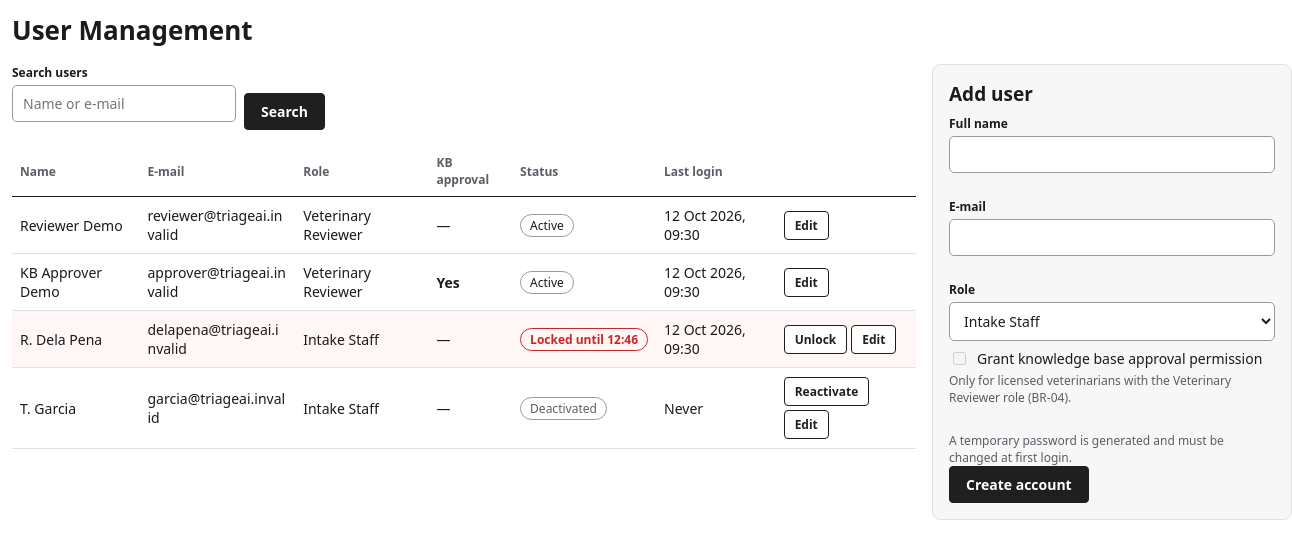
Test case: the add-user panel (BR-04) › enables the KB approval checkbox for a Veterinary Reviewer only and clears it otherwise
Expected: the text "Reviewer Demo" is shown, left=12, top=196, right=140, bottom=254
Expected: the checkbox labelled "Grant knowledge base approval permission" is disabled, left=953, top=352, right=966, bottom=365
Step 1. Select "Veterinary Reviewer" in the dropdown labelled "Role" → point(1112, 322), box left=949, top=302, right=1275, bottom=341
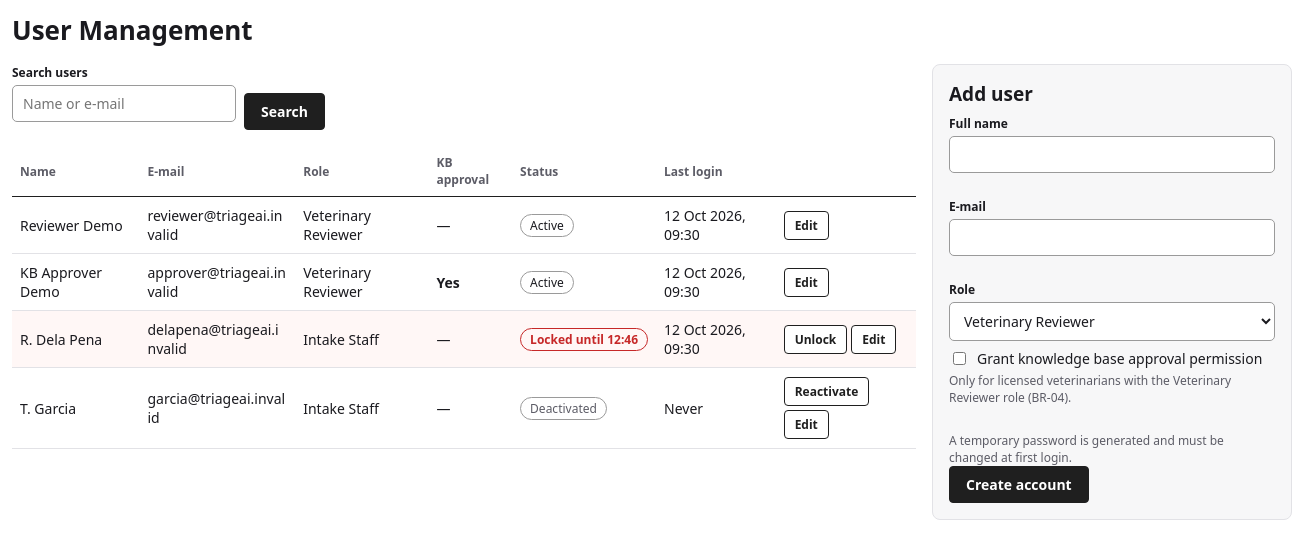
Expected: the checkbox labelled "Grant knowledge base approval permission" is enabled
Step 2. Click the checkbox labelled "Grant knowledge base approval permission" → point(960, 359), box left=953, top=352, right=966, bottom=365
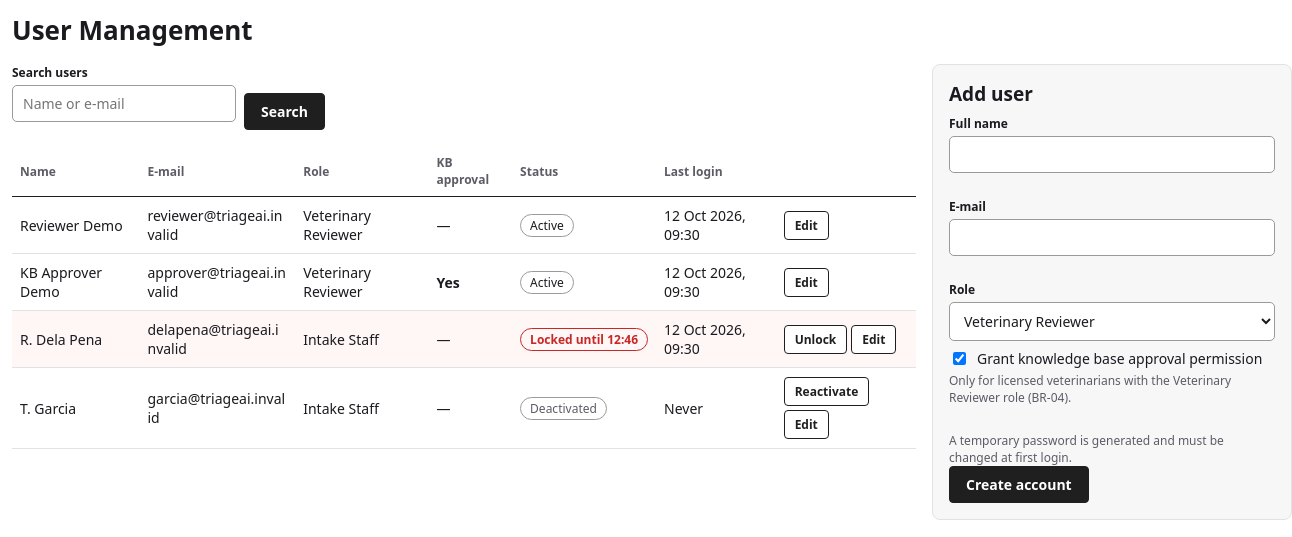
Expected: the checkbox labelled "Grant knowledge base approval permission" is checked, left=953, top=352, right=966, bottom=365
Step 3. Select "Administrator" in the dropdown labelled "Role" → point(1112, 322), box left=949, top=302, right=1275, bottom=341
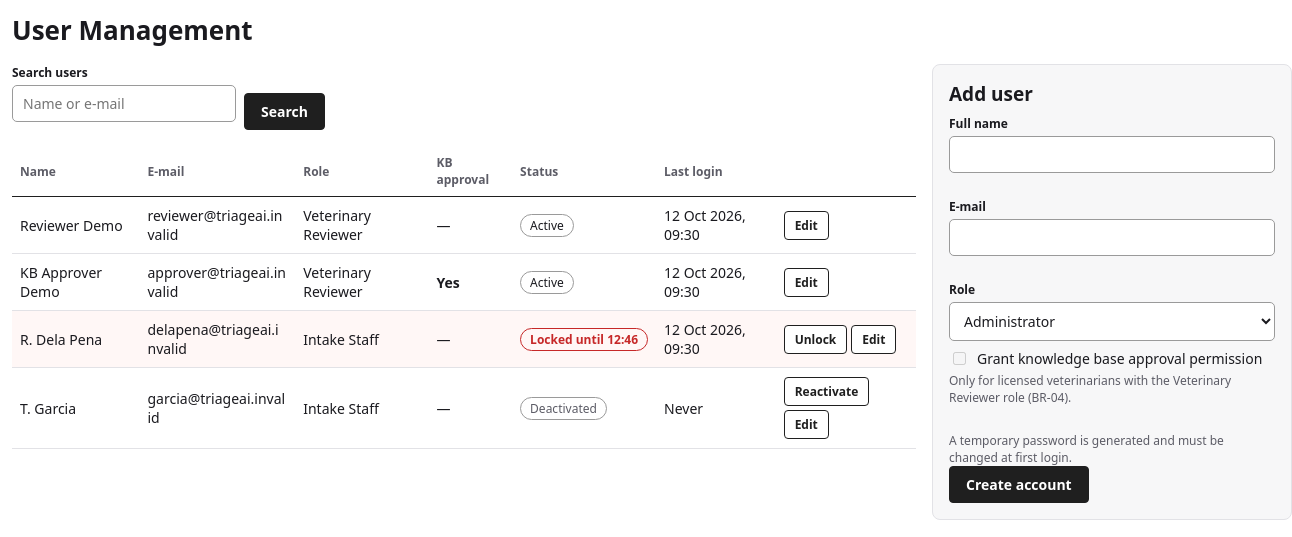
Expected: the checkbox labelled "Grant knowledge base approval permission" is not checked, left=953, top=352, right=966, bottom=365
Expected: the checkbox labelled "Grant knowledge base approval permission" is disabled, left=953, top=352, right=966, bottom=365
